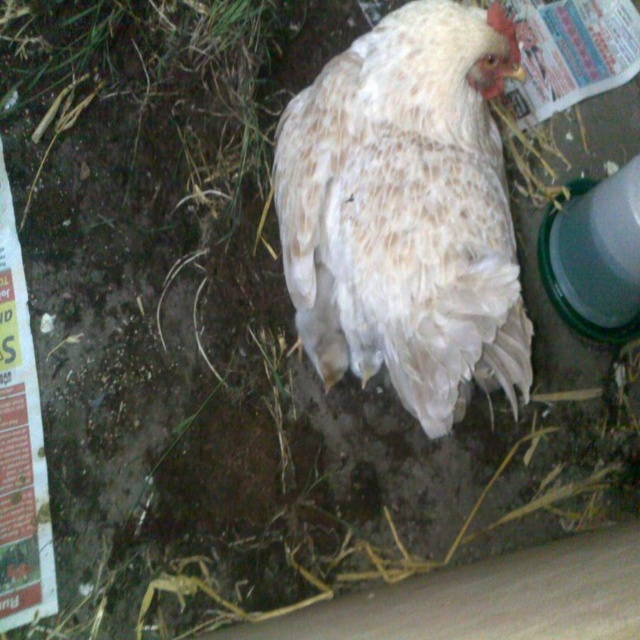Chicken: (276, 18, 526, 442)
